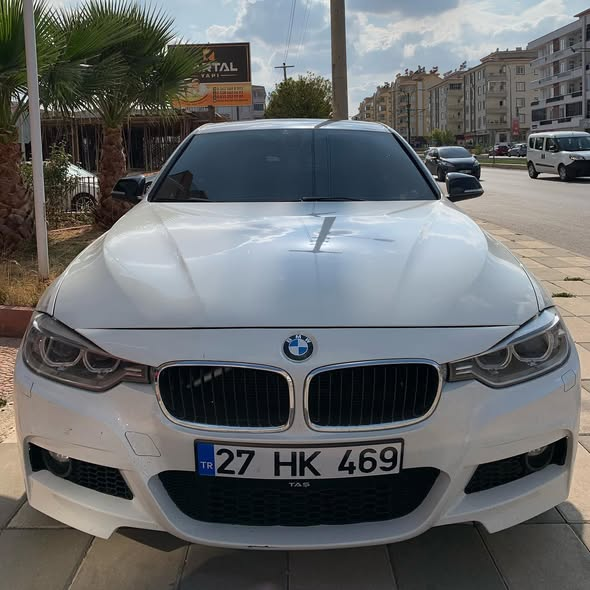plate: (191, 439, 405, 489)
